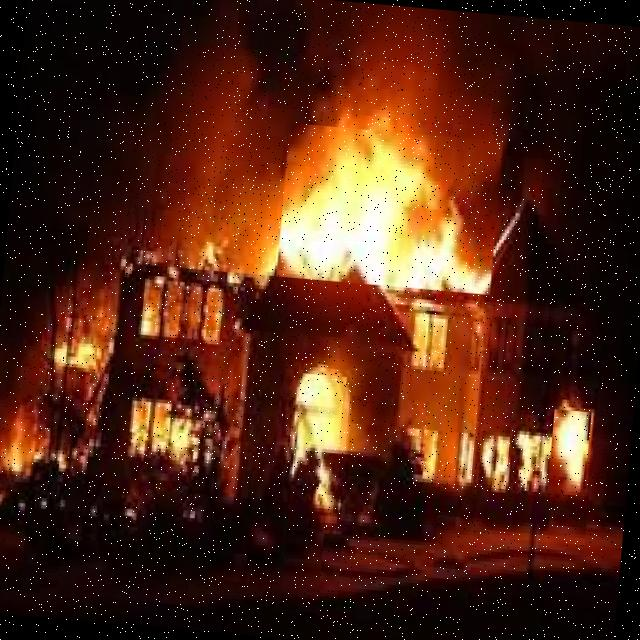fire: (274, 126, 500, 297), (286, 374, 344, 486), (547, 408, 591, 496), (0, 408, 37, 476)
